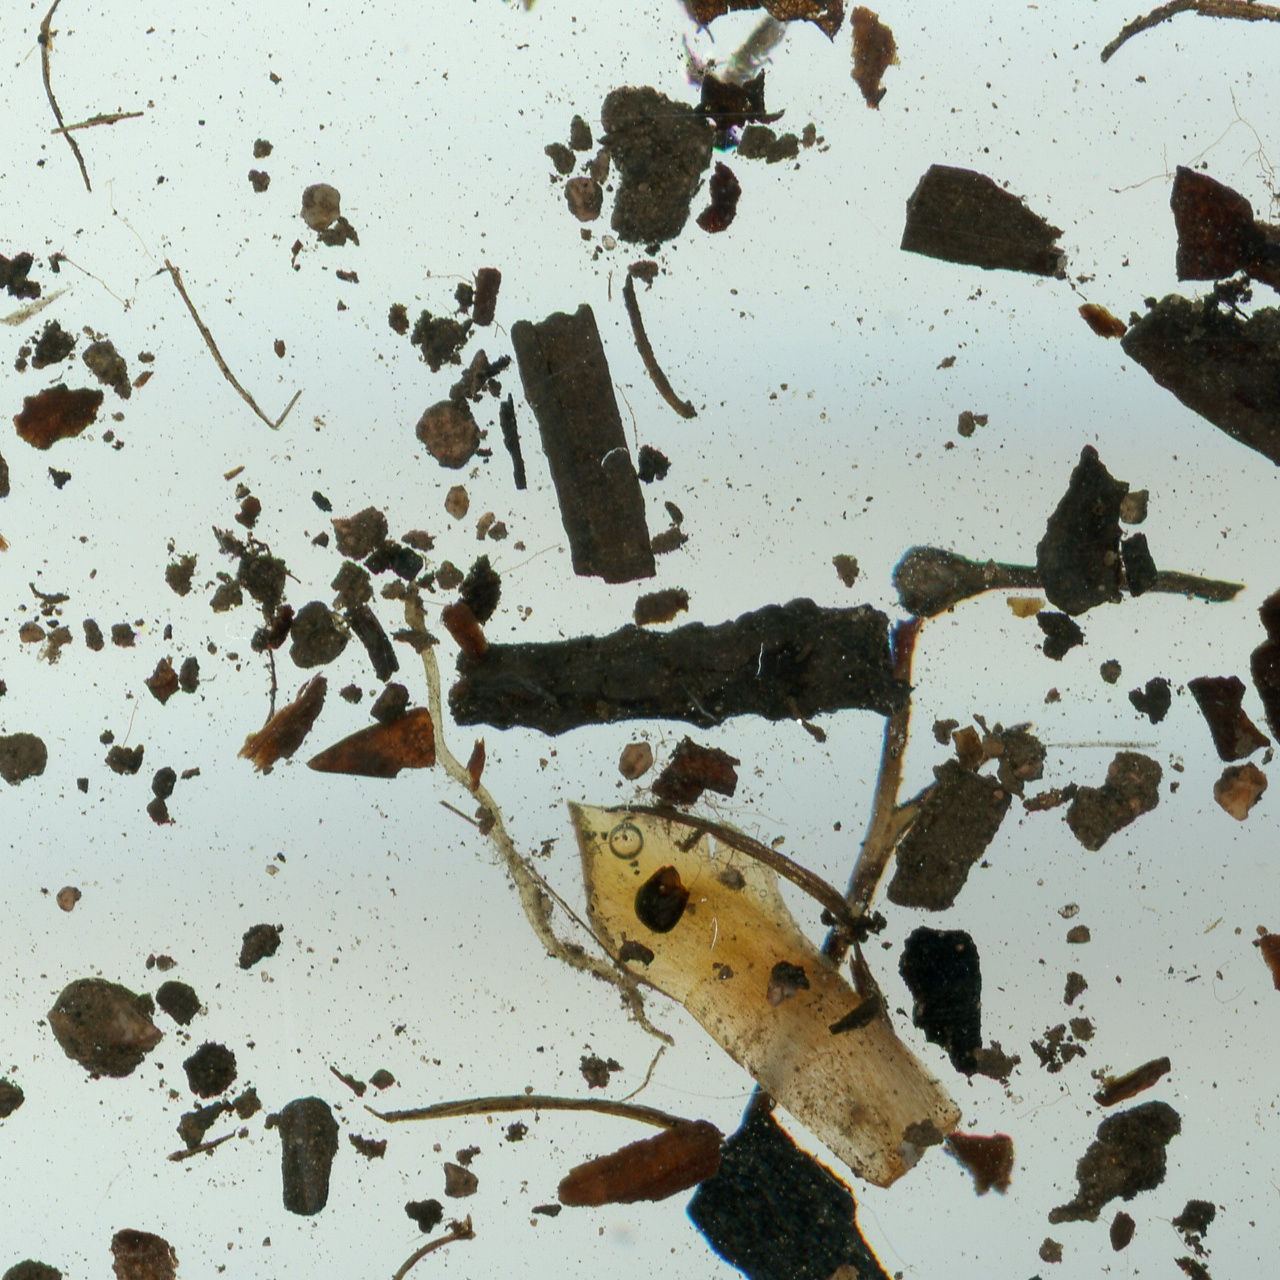arthropod: (713, 4, 810, 97), (624, 0, 726, 62), (658, 26, 724, 95)
